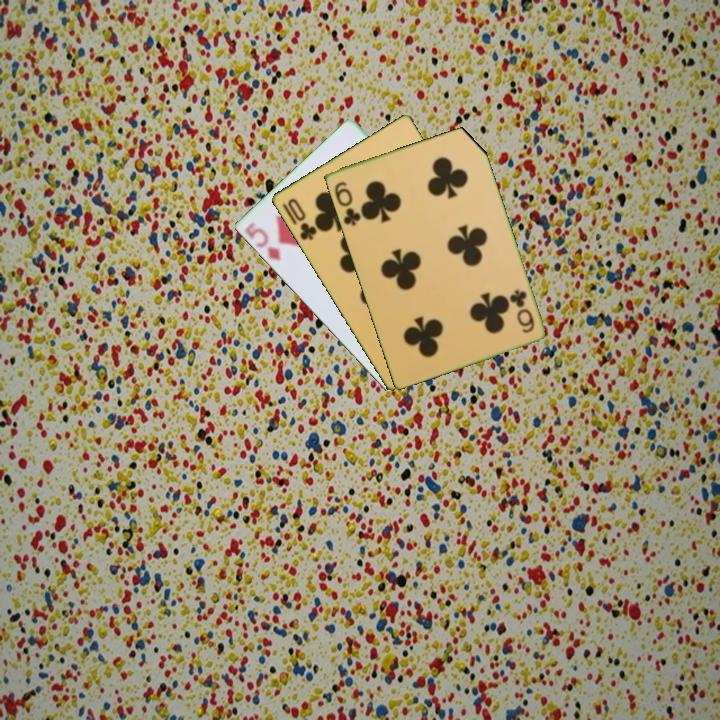10c: (283, 194, 319, 243)
5d: (241, 222, 284, 264)
6c: (330, 178, 363, 229), (506, 286, 537, 336)
